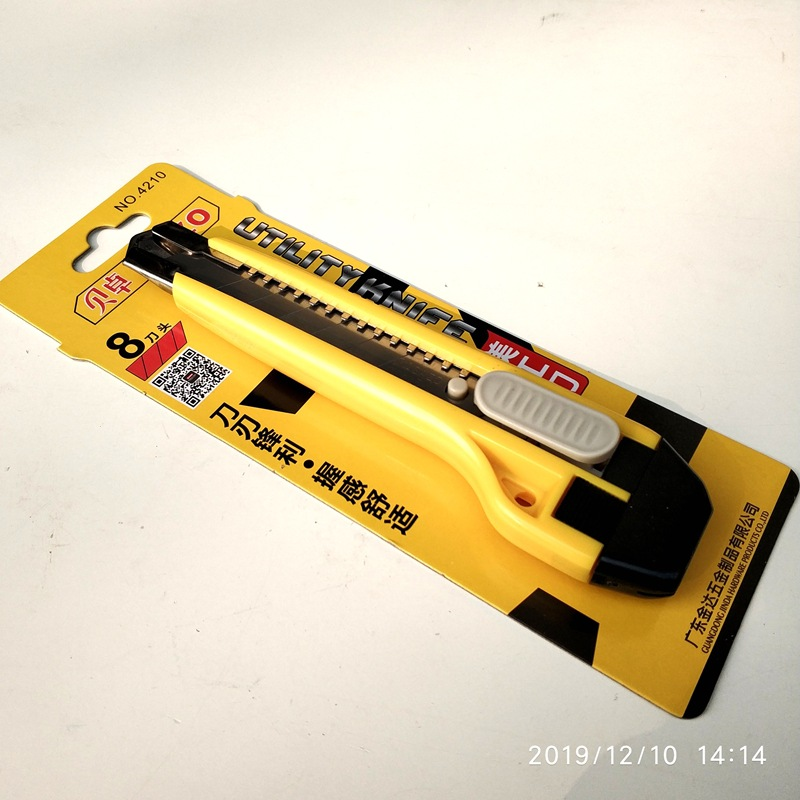cutter: (114, 221, 715, 597)
